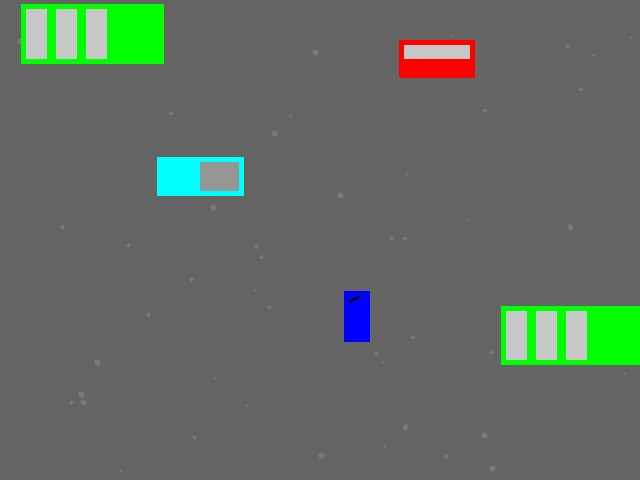bus: (21, 4, 163, 63), (501, 306, 640, 364)
car: (399, 40, 474, 77)
motorcycle: (344, 291, 369, 341)
truck: (157, 157, 243, 195)
